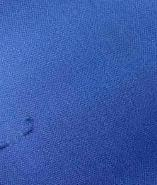knot: (18, 114, 38, 138), (0, 139, 11, 151)
